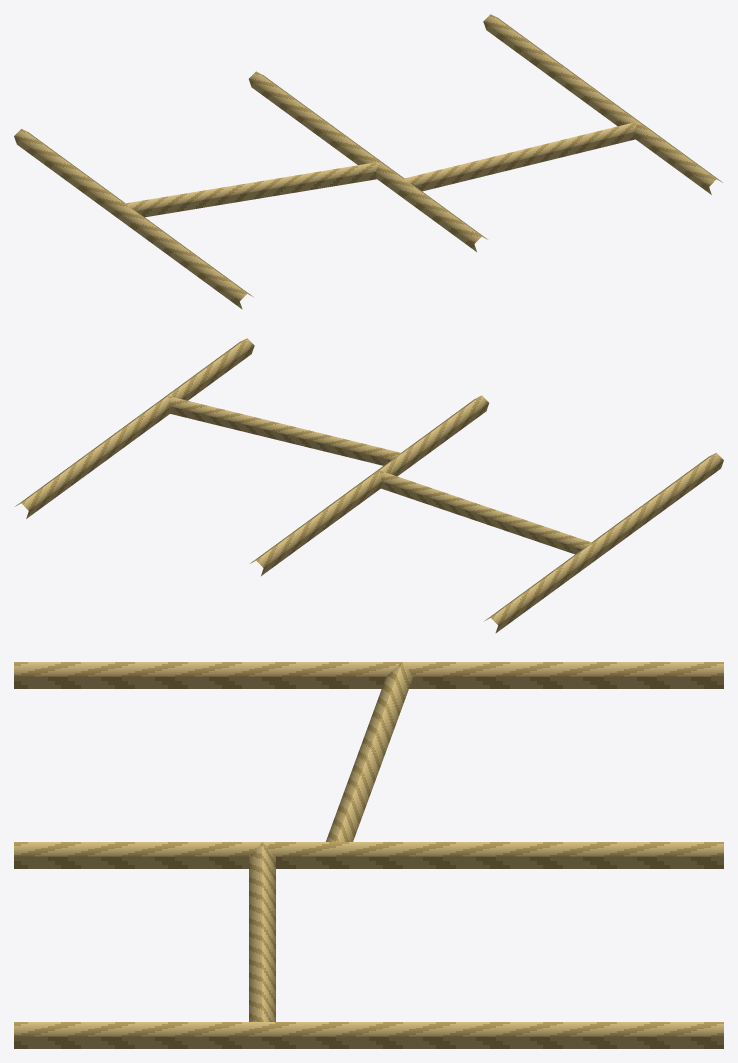
3 views of the same model, one above another, from view 1: azimuth 30°, elevation 25°; view 2: azimuth 150°, elevation 25°; view 3: azimuth 270°, elevation 25° (orthographic). The views are drawn at different scales.
Bounding box in the file's own units: 12.38 × 0.3613 × 10.
Materials: 1 (1 with a texture image).
